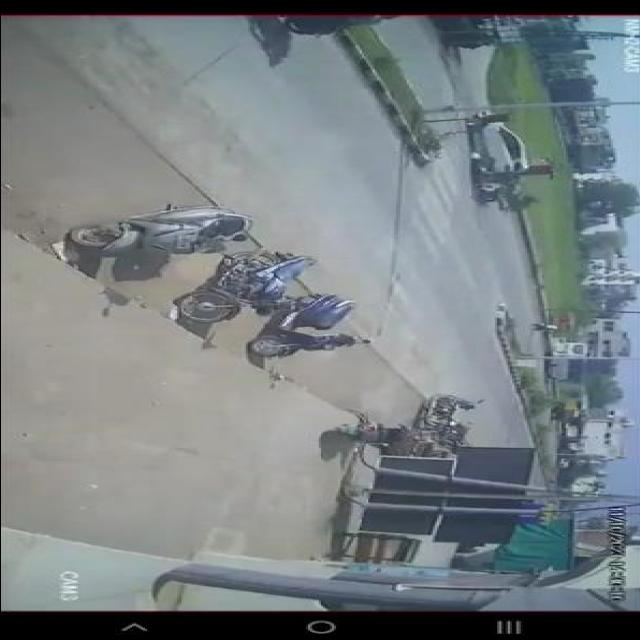accident: (453, 115, 539, 205)
